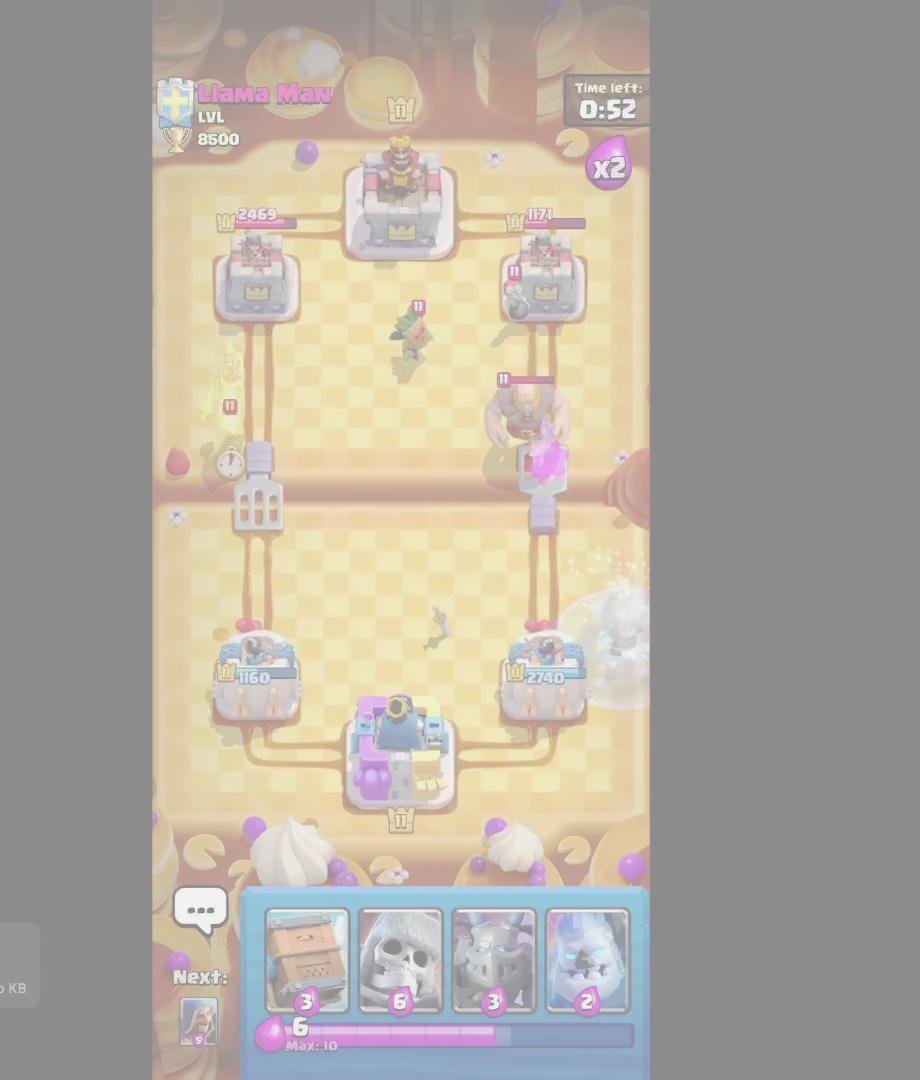Dart Goblin: (370, 286, 452, 361)
Giant: (485, 371, 579, 464)
Hog Rider: (193, 339, 270, 443)
